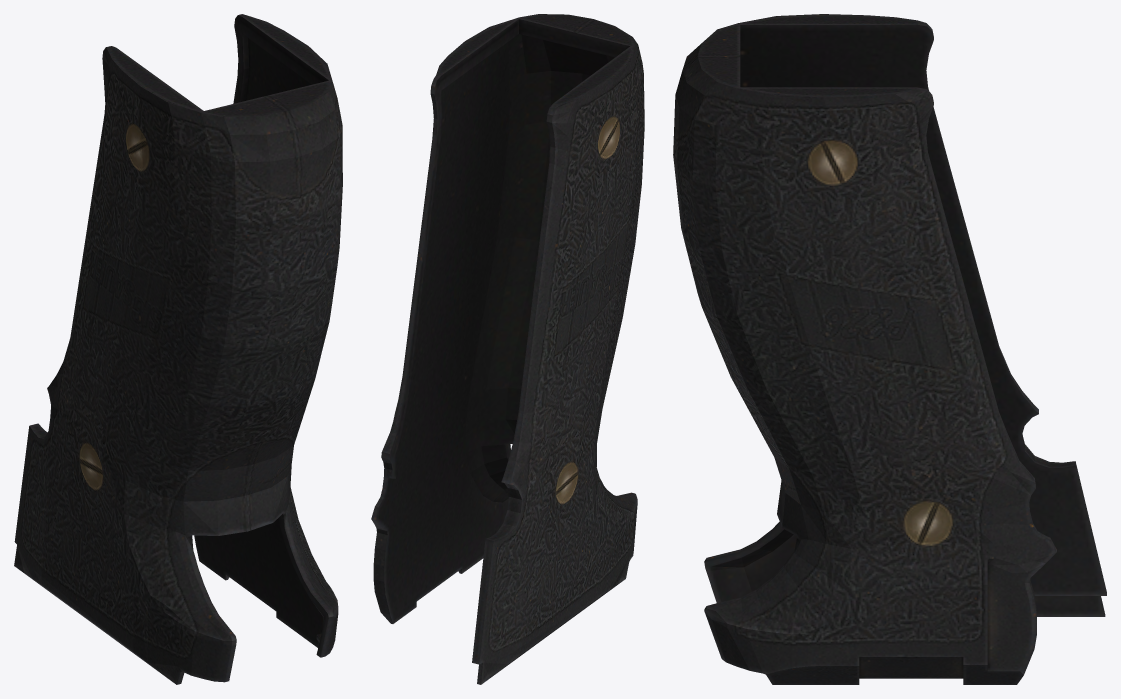
3 renders of one model, left to right at view 1: azimuth 30°, elevation 25°; view 2: azimuth 150°, elevation 25°; view 3: azimuth 270°, elevation 25°, orthographic. The views are drawn at different scales.
Parts seen in each view (by area): view 1: TW_5bffec120db834001c38f5fa_PZ_Import; view 2: TW_5bffec120db834001c38f5fa_PZ_Import; view 3: TW_5bffec120db834001c38f5fa_PZ_Import.
Boxes of the visible parts, x1,y1,x2,y2 form: TW_5bffec120db834001c38f5fa_PZ_Import: [14, 14, 342, 684]; TW_5bffec120db834001c38f5fa_PZ_Import: [371, 14, 644, 684]; TW_5bffec120db834001c38f5fa_PZ_Import: [673, 14, 1106, 684].
Size of the model in its own units: 0.0196 by 0.0417 by 0.0632.
1 material, 1 textured.
